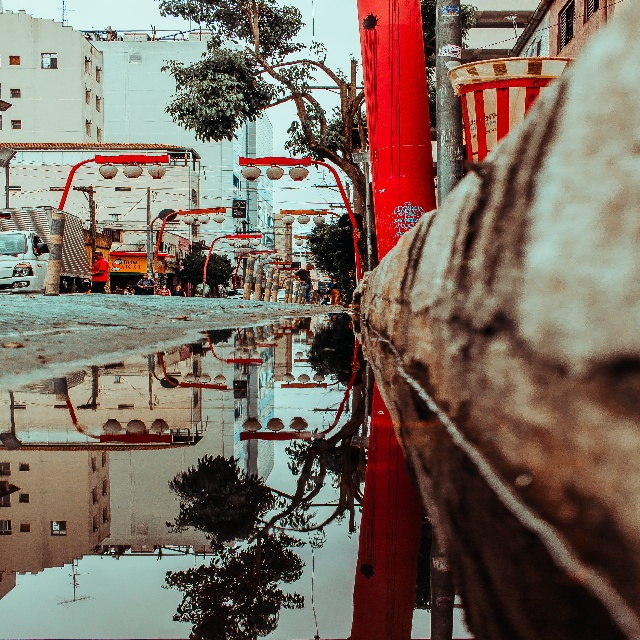Sin_guantes: (300, 279, 307, 284)
